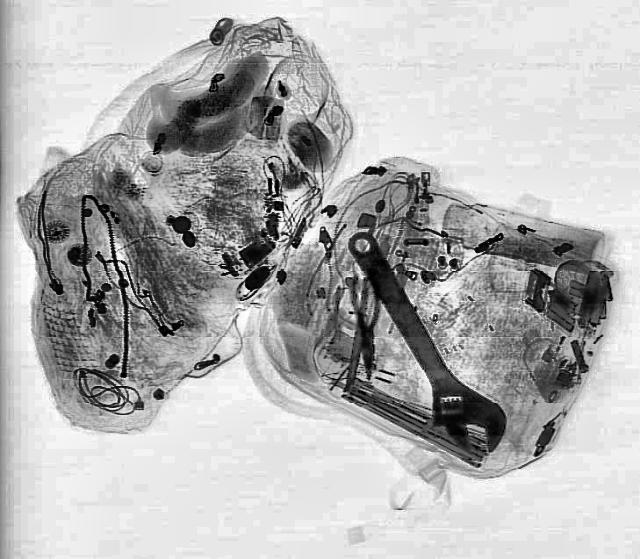Pliers: (347, 274, 383, 380)
Wrench: (320, 218, 520, 466)
